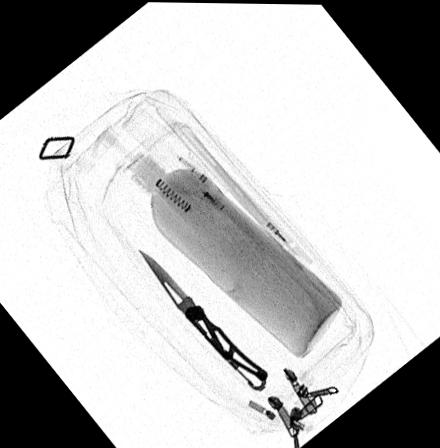Knife: (137, 248, 267, 390)
